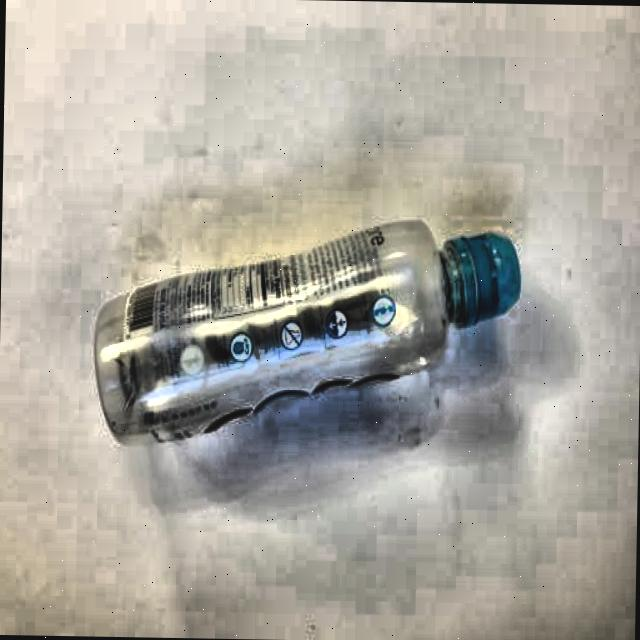plastic: (89, 210, 526, 458)
